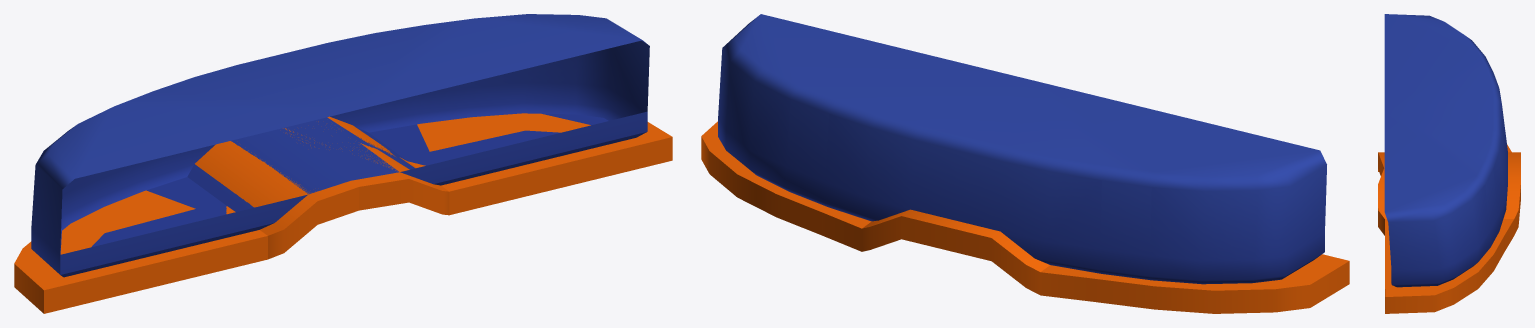
The model's file is Car_01_RearBumper_Cool.fbx.
3 views of the same model, side by side, from view 1: azimuth 30°, elevation 25°; view 2: azimuth 150°, elevation 25°; view 3: azimuth 270°, elevation 25° (orthographic). The views are drawn at different scales.
Parts seen in each view (by area): view 1: Car_01_RearBumper_Cool; view 2: Car_01_RearBumper_Cool; view 3: Car_01_RearBumper_Cool.
Part boxes in pixels (x1,y1,x2,y2): Car_01_RearBumper_Cool: (14, 14, 672, 313); Car_01_RearBumper_Cool: (701, 14, 1349, 313); Car_01_RearBumper_Cool: (1378, 14, 1520, 313).
Size of the model in its own units: 177 by 48.69 by 34.47.
